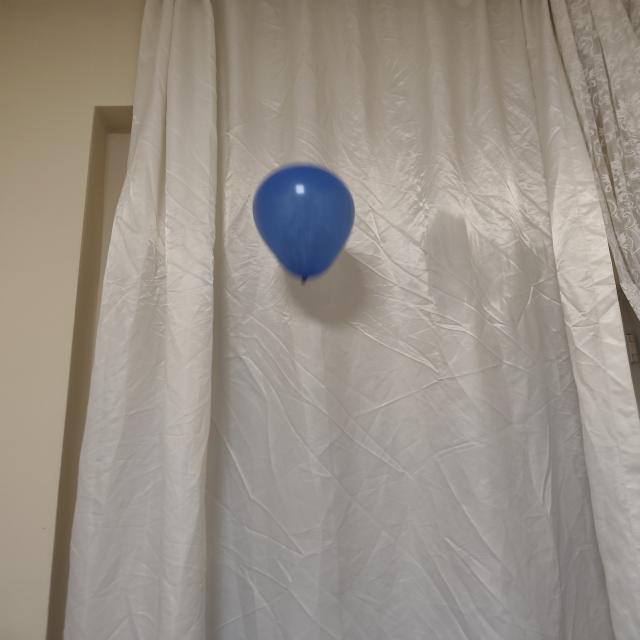balloon: (253, 165, 354, 283)
